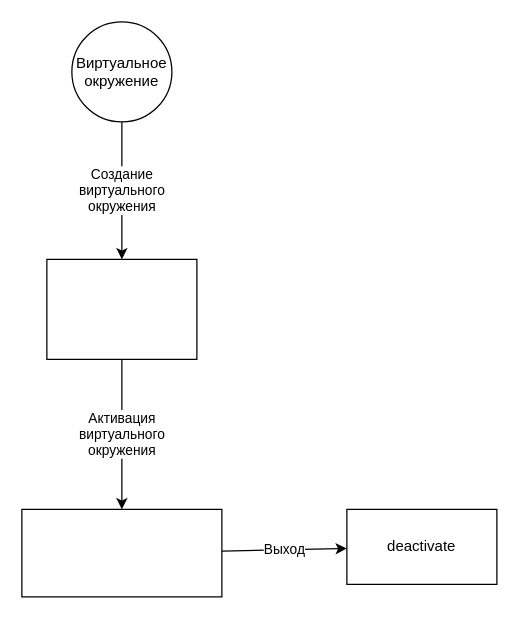
Some shapes in this 519 by 619 pixel diagram are drawn without their labels. The box of each missing label's shape, as (x1, y1, x2, y2) in pixels:
.\venv\Scripts\activate В терминале увидим: (venv) PS C:\Users\Maksim...: (21, 508, 222, 597)
python -m venv venv Создает папку в указанной директории с именем venv: (46, 258, 197, 359)
